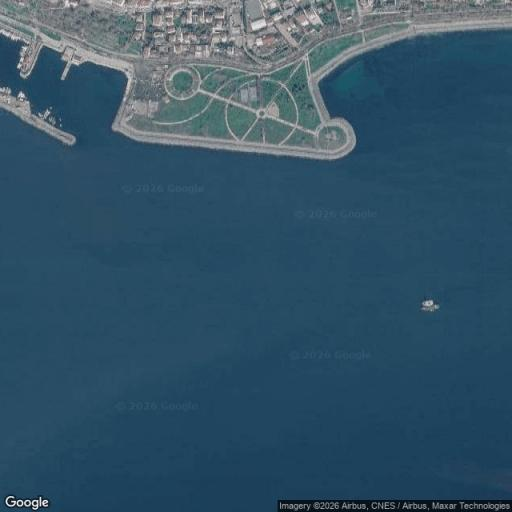ship: (421, 299, 439, 312)
